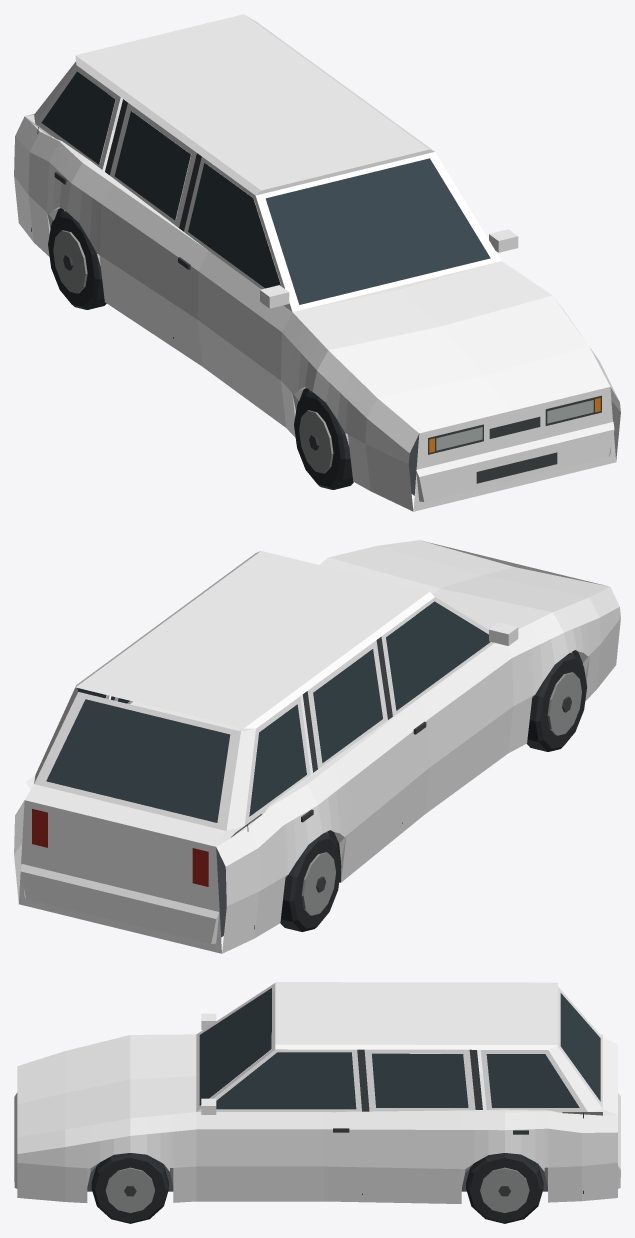
File: hozuki_isaribi_gts_iii.glb
The picture shows the model from 3 angles, top to bottom: view 1: azimuth 30°, elevation 25°; view 2: azimuth 150°, elevation 25°; view 3: azimuth 270°, elevation 25°; orthographic projection. The views are drawn at different scales.
Parts seen in each view (by area): view 1: hozuki_isaribi_gts_iii; view 2: hozuki_isaribi_gts_iii; view 3: hozuki_isaribi_gts_iii.
Part boxes in pixels (bbox=[...]): hozuki_isaribi_gts_iii: bbox=[14, 14, 620, 511]; hozuki_isaribi_gts_iii: bbox=[14, 540, 620, 953]; hozuki_isaribi_gts_iii: bbox=[14, 982, 620, 1223].
Size of the model in its own units: 1.82 by 1.48 by 4.91.
8 materials, 1 textured.
